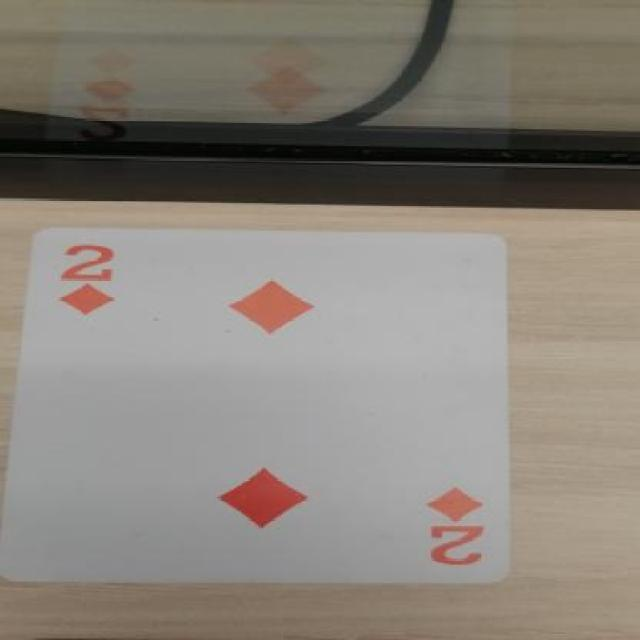2D: (391, 474, 515, 578), (31, 231, 166, 324)
